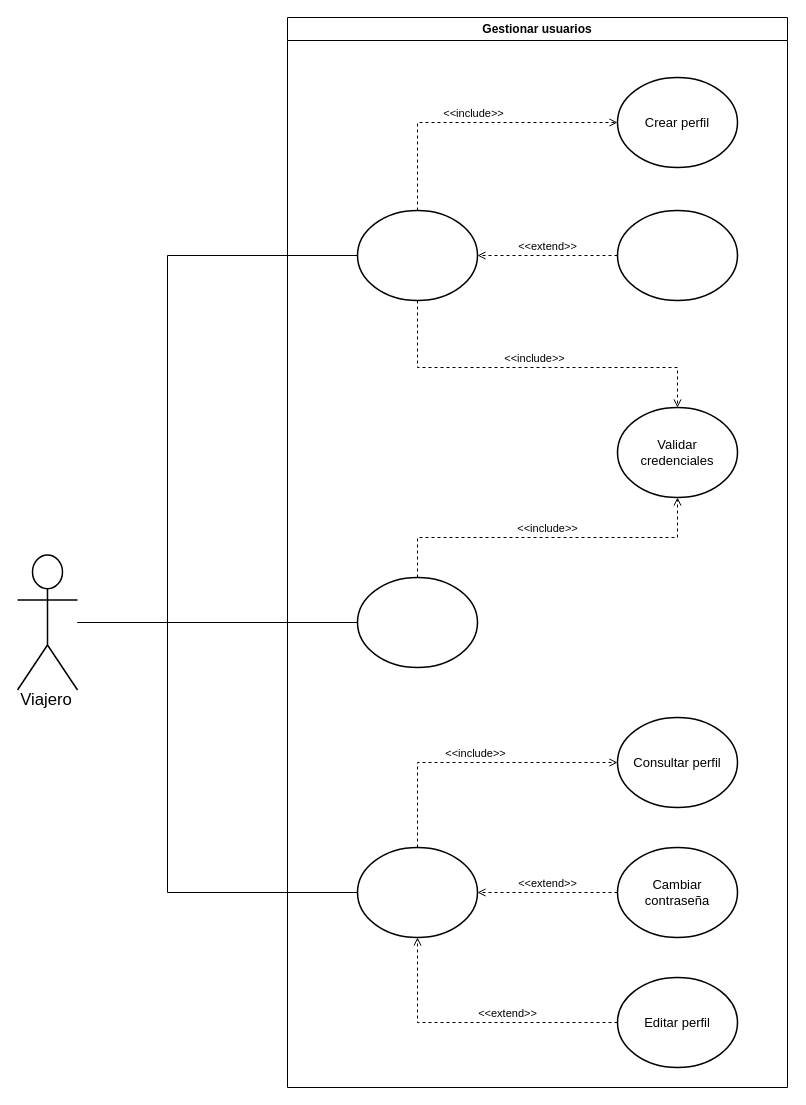
Some shapes in this 806 by 1105 pixel diagram are drawn without their labels. The shapes that lost their labels are listed below. From the top down, each one's centre as x and y in pixels, then its label:
At pixel 417 255: "Registrar usuario".
At pixel 677 255: "Envíar confirmación".
At pixel 417 622: "Iniciar sesión".
At pixel 417 892: "Gestionar perfil".
